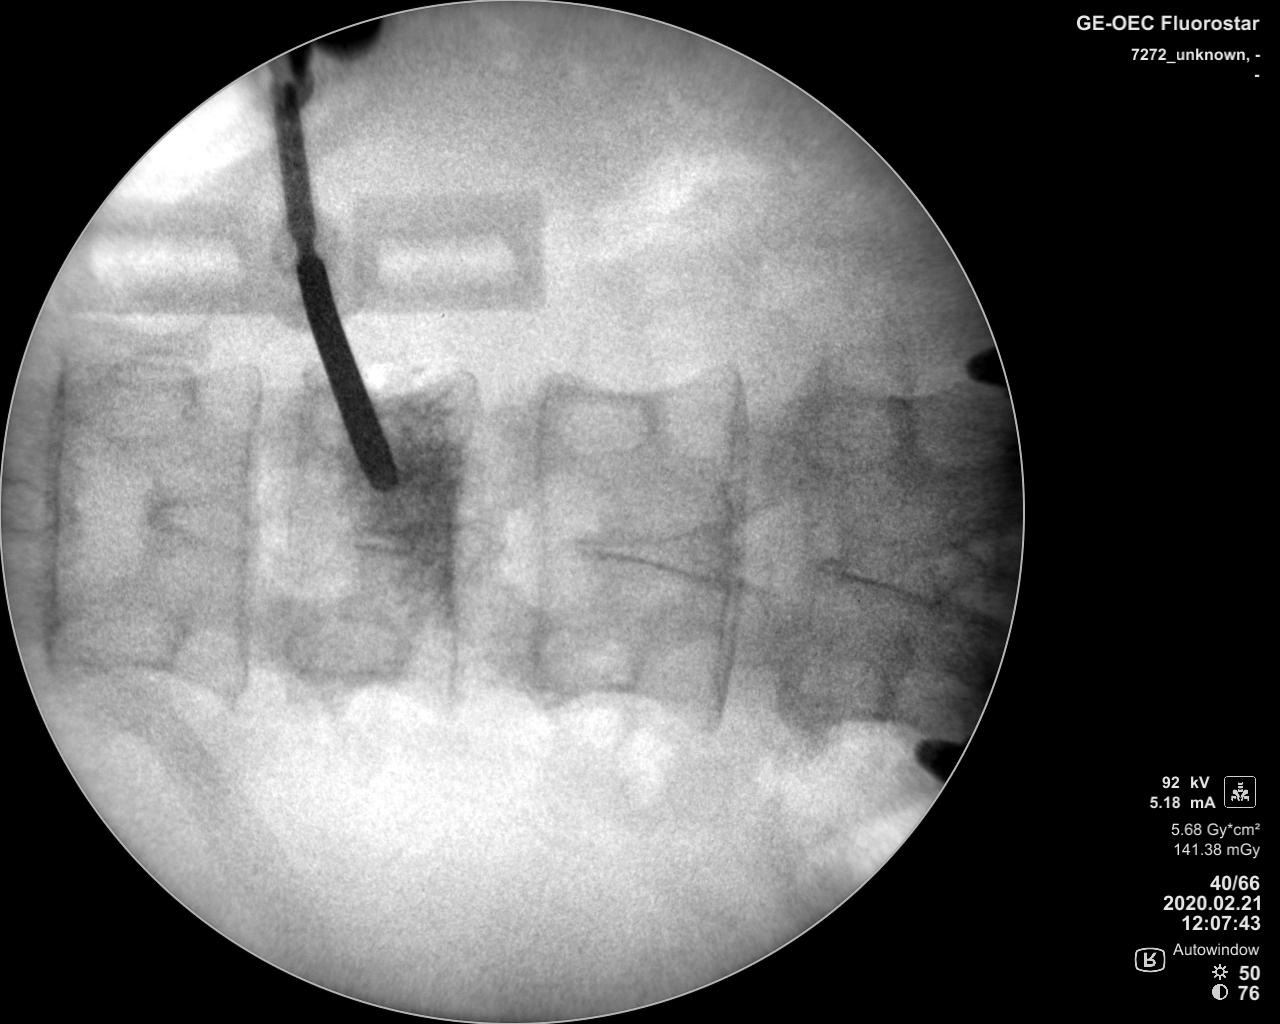eyes: (60, 585, 185, 678), (87, 352, 202, 446), (277, 615, 411, 688), (529, 626, 639, 703), (545, 385, 655, 456)
line: (703, 344, 755, 737), (224, 346, 270, 711), (436, 359, 478, 715), (36, 352, 76, 695)
nose: (562, 518, 747, 584), (806, 537, 959, 607), (344, 514, 511, 573), (130, 493, 258, 550)
